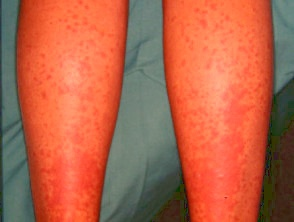SJS-TEN: (2, 0, 133, 222), (158, 0, 286, 222)
